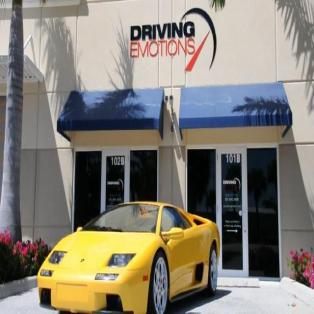Auto: (35, 197, 223, 313)
